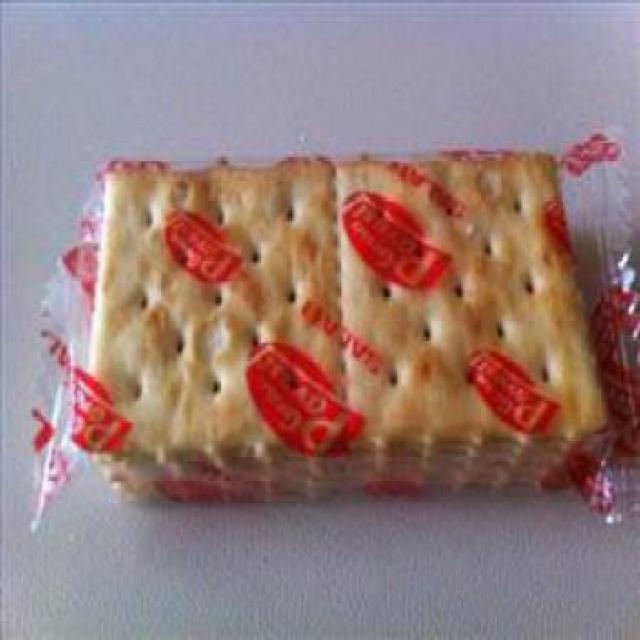Cracker: (20, 126, 638, 528)
